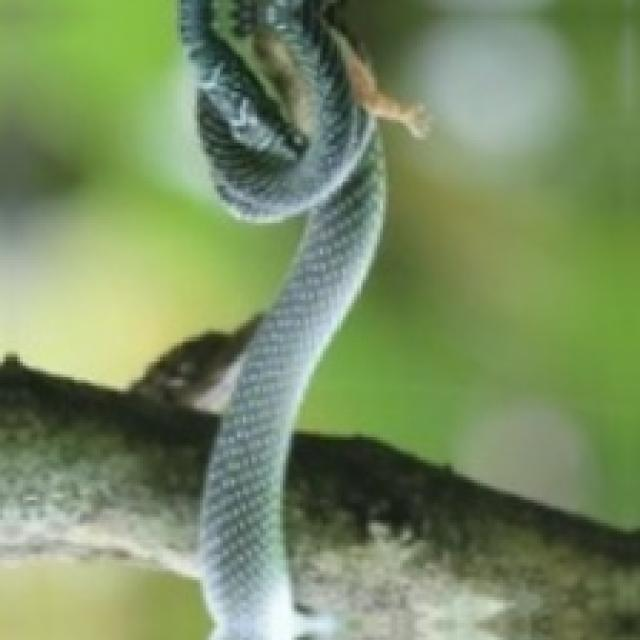paradise tree snake: (180, 0, 423, 637)
